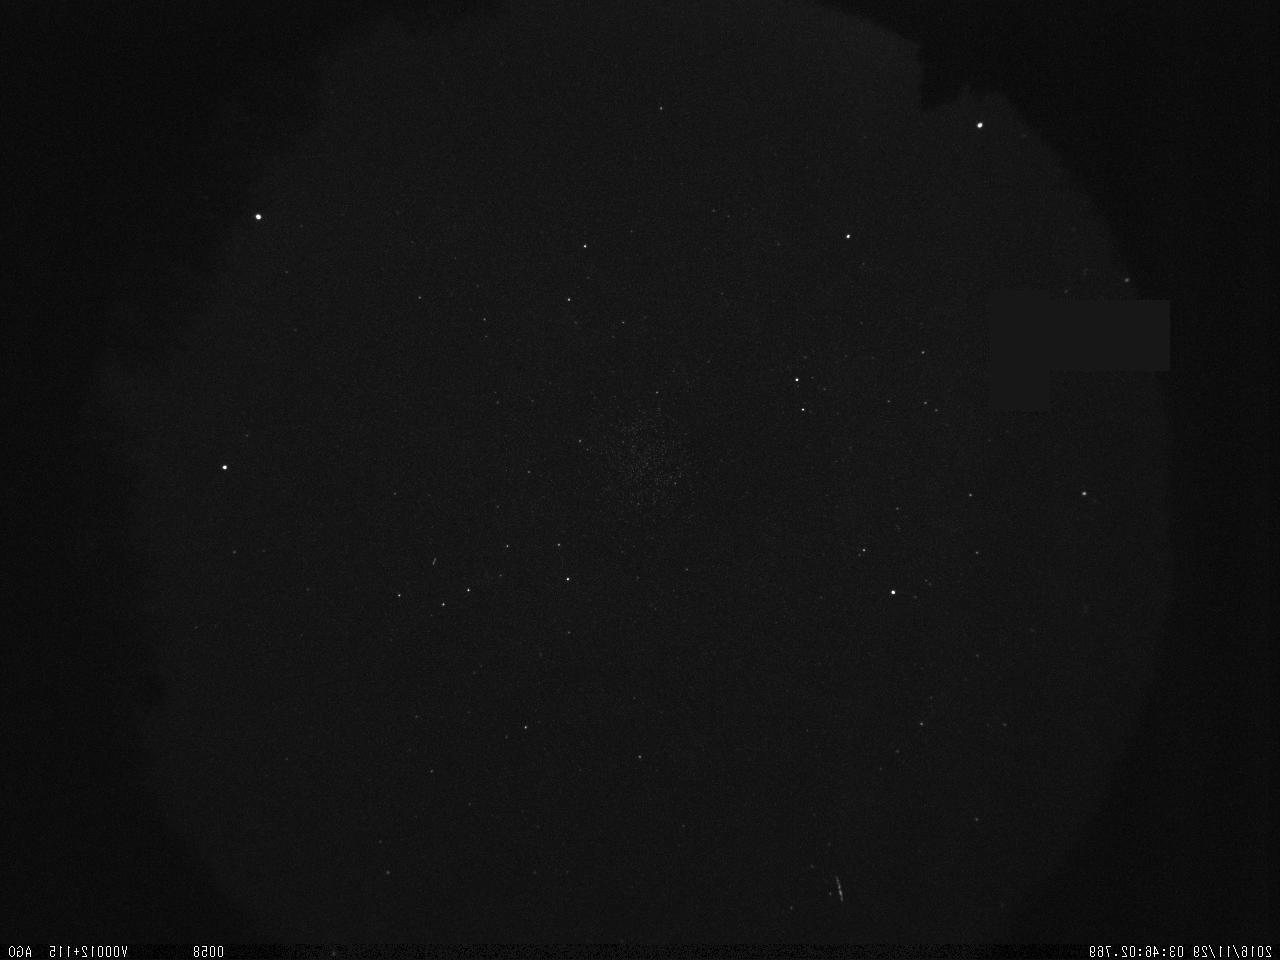meteor: (833, 873, 847, 911)
